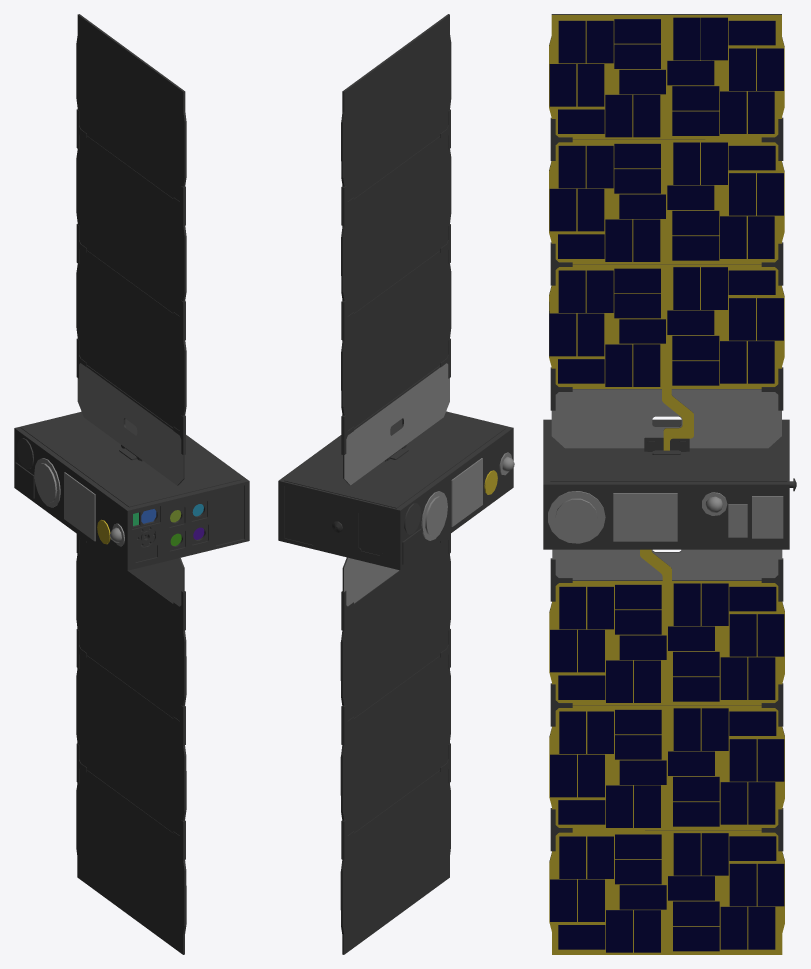
Rendered from milani.glb.
The picture shows the model from 3 angles, left to right: view 1: azimuth 30°, elevation 25°; view 2: azimuth 150°, elevation 25°; view 3: azimuth 270°, elevation 25°; orthographic projection. The views are drawn at different scales.
Parts seen in each view (by area): view 1: Solid1.013; view 2: Solid1.013; view 3: Solid1.013.
Part boxes in pixels (x1=…): Solid1.013: x1=14, y1=14, x2=249, y2=954; Solid1.013: x1=278, y1=14, x2=514, y2=954; Solid1.013: x1=543, y1=14, x2=796, y2=954.
Size of the model in its own units: 0.2565 by 1.53 by 0.3732.
